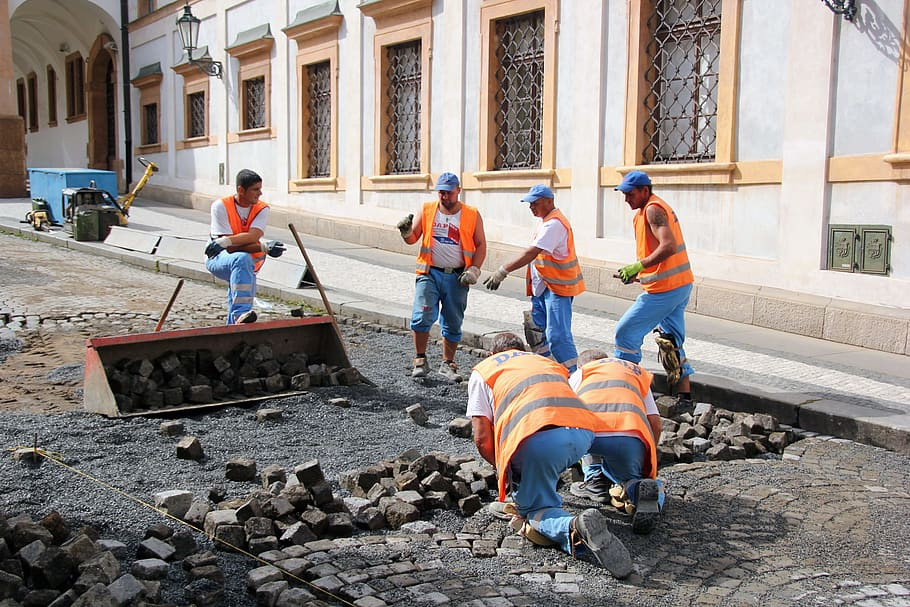Person: (478, 333, 597, 561), (606, 171, 700, 402), (387, 166, 486, 381), (565, 349, 675, 531), (484, 188, 583, 353), (200, 171, 288, 324)
Vest: (471, 333, 576, 500), (614, 189, 694, 293), (576, 351, 659, 440), (524, 201, 586, 296), (209, 179, 270, 273), (422, 189, 480, 274)
